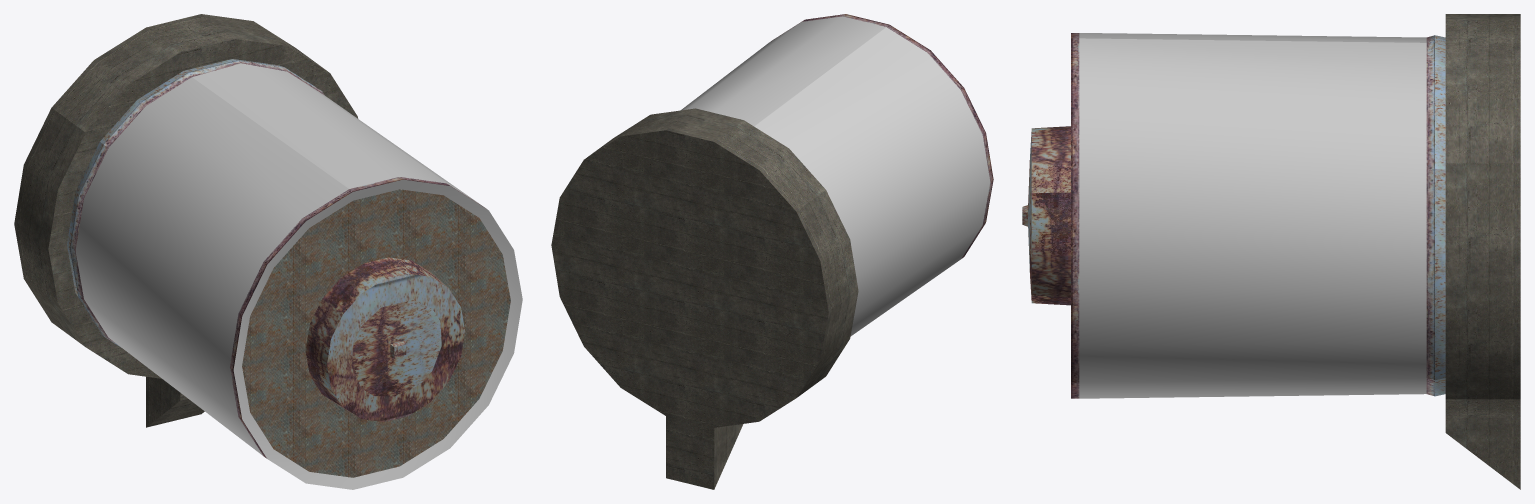
The model's file is oeltank_5_LOD1.fbx.
The picture shows the model from 3 angles, left to right: view 1: azimuth 30°, elevation 25°; view 2: azimuth 150°, elevation 25°; view 3: azimuth 270°, elevation 25°; orthographic projection. The views are drawn at different scales.
Visible parts, largest first — view 1: MDL-Objec1; view 2: MDL-Objec1; view 3: MDL-Objec1.
Part boxes in pixels (left/top/right/bottom): MDL-Objec1: left=14, top=14, right=522, bottom=489; MDL-Objec1: left=551, top=14, right=993, bottom=489; MDL-Objec1: left=1022, top=14, right=1520, bottom=489.
Bounding box in the file's own units: 6.3 × 7.55 × 7.75.
